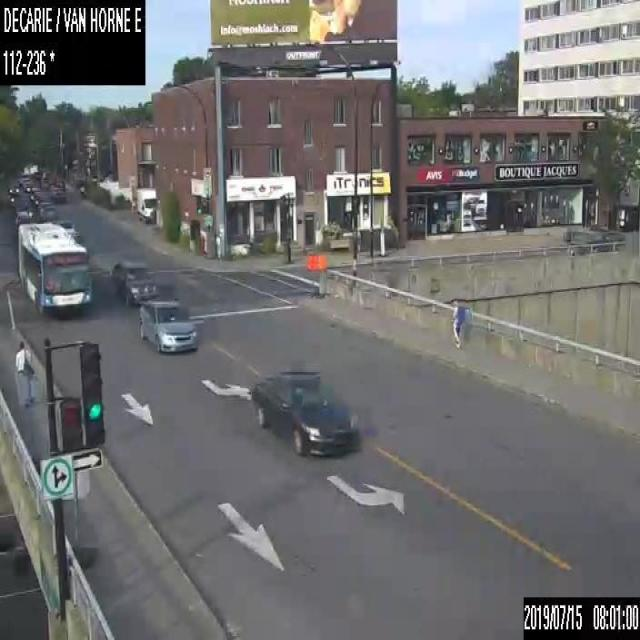bus: (18, 222, 91, 310)
construction: (15, 371, 43, 470), (68, 467, 95, 568), (306, 253, 316, 297), (316, 254, 326, 296)
pedestrian: (449, 298, 470, 346), (13, 340, 32, 373)
vehicle: (250, 366, 363, 454), (140, 300, 196, 350), (110, 259, 158, 305), (588, 232, 624, 252), (136, 187, 155, 223), (42, 206, 57, 220)
